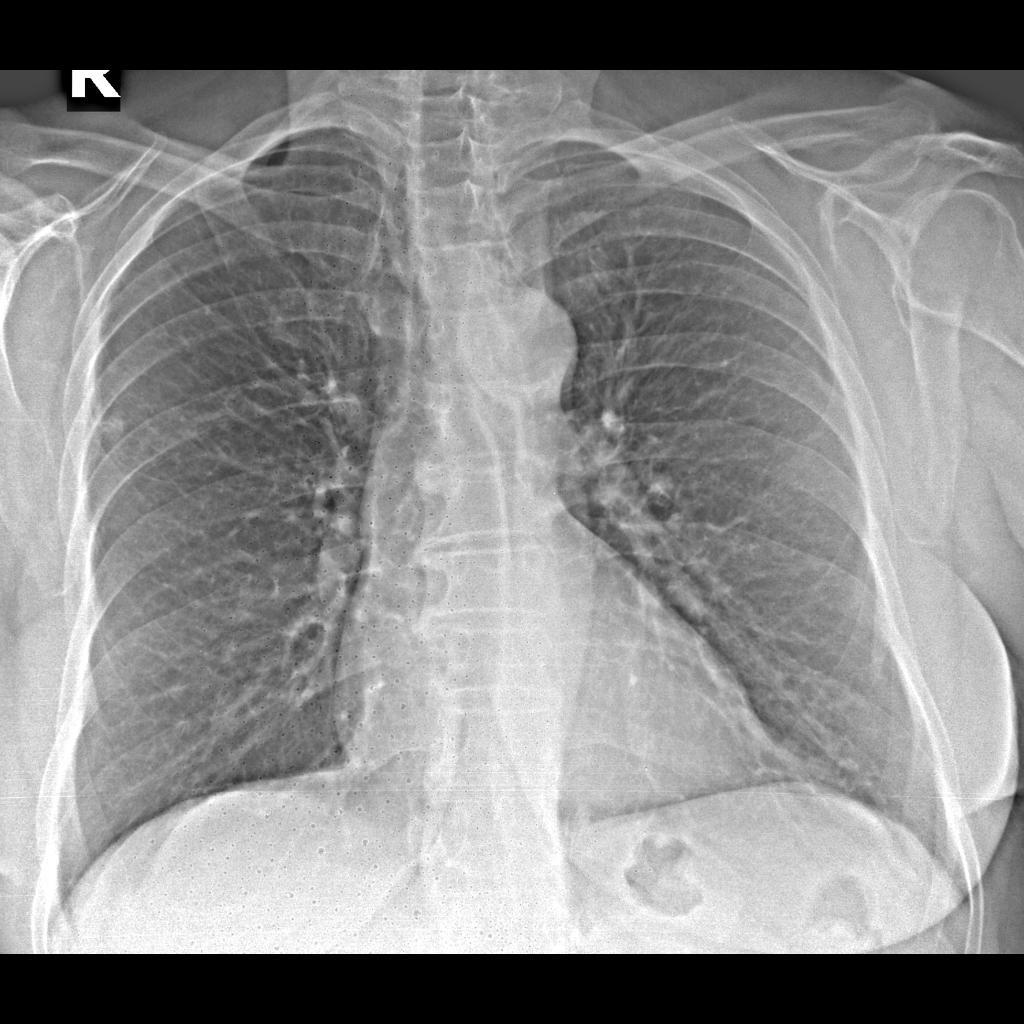Nodule: (95, 411, 137, 450)
